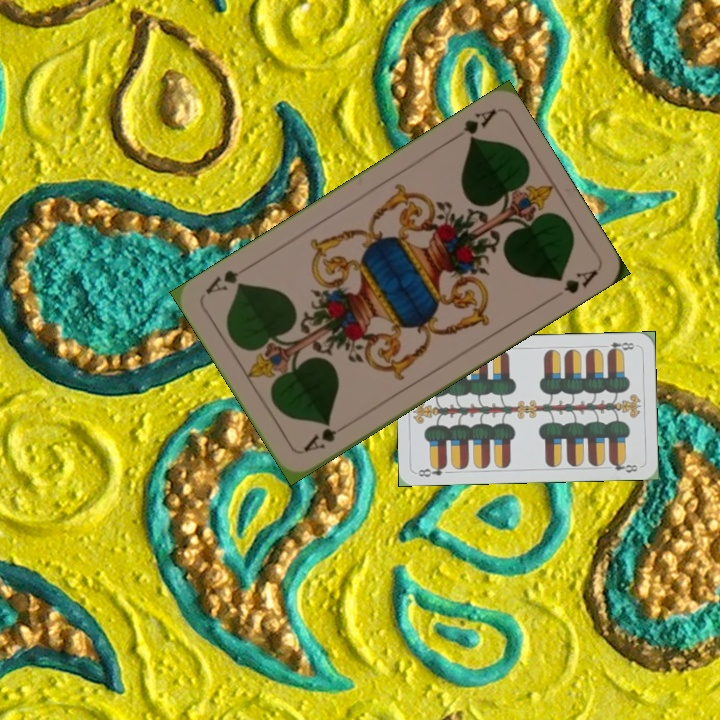E8: (598, 338, 639, 355), (414, 461, 449, 480)
GA: (446, 105, 498, 145), (299, 419, 352, 455)
